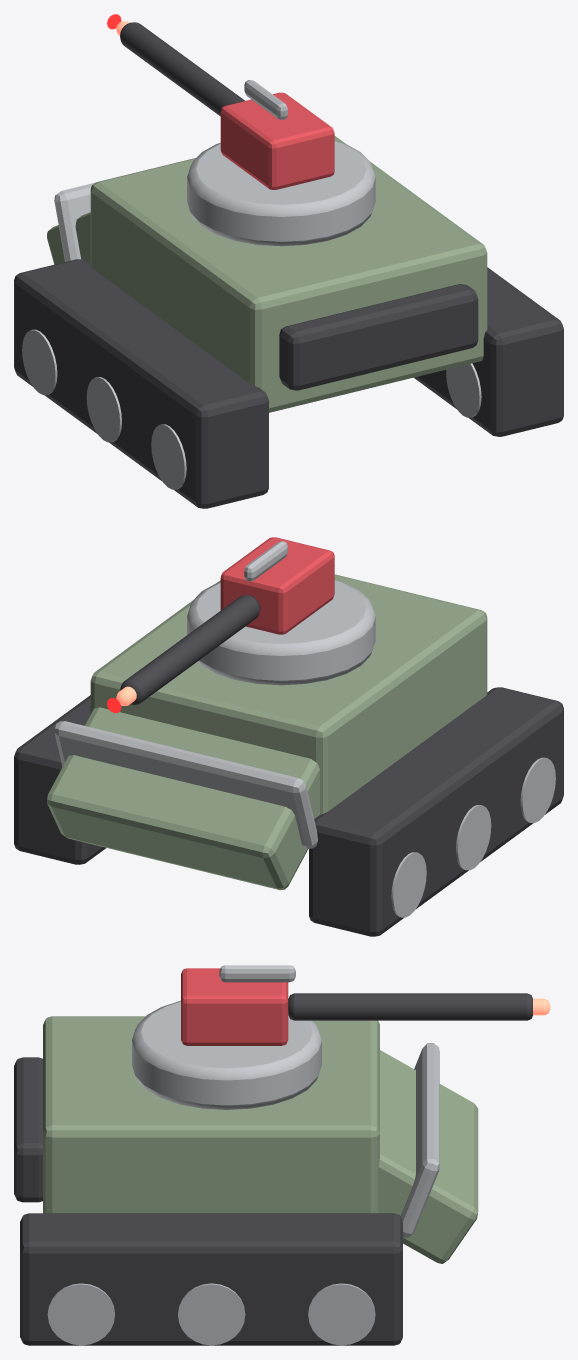
Rendered from robot_medium_laser_tank.glb.
The picture shows the model from 3 angles, top to bottom: view 1: azimuth 30°, elevation 25°; view 2: azimuth 150°, elevation 25°; view 3: azimuth 270°, elevation 25°; orthographic projection.
Parts seen in each view (by area): view 1: robot_medium_laser_tank, robot_medium_laser_tank_gun, robot_medium_laser_tank_wheel0, robot_medium_laser_tank_wheel2, robot_medium_laser_tank_wheel1, robot_medium_laser_tank_wheel3; view 2: robot_medium_laser_tank, robot_medium_laser_tank_gun, robot_medium_laser_tank_wheel2, robot_medium_laser_tank_wheel0, robot_medium_laser_tank_wheel1; view 3: robot_medium_laser_tank, robot_medium_laser_tank_gun, robot_medium_laser_tank_wheel3, robot_medium_laser_tank_wheel4, robot_medium_laser_tank_wheel5.
Boxes of the visible parts, x1,y1,x2,y2 form: robot_medium_laser_tank: (14, 136, 563, 508); robot_medium_laser_tank_gun: (116, 21, 334, 189); robot_medium_laser_tank_wheel0: (151, 424, 186, 489); robot_medium_laser_tank_wheel2: (22, 329, 57, 394); robot_medium_laser_tank_wheel1: (86, 377, 121, 442); robot_medium_laser_tank_wheel3: (446, 363, 481, 417); robot_medium_laser_tank: (14, 574, 563, 936); robot_medium_laser_tank_gun: (116, 537, 334, 705); robot_medium_laser_tank_wheel2: (391, 852, 426, 917); robot_medium_laser_tank_wheel0: (520, 757, 555, 822); robot_medium_laser_tank_wheel1: (456, 805, 491, 870); robot_medium_laser_tank: (14, 1000, 478, 1345); robot_medium_laser_tank_gun: (181, 965, 550, 1045); robot_medium_laser_tank_wheel3: (47, 1283, 114, 1345); robot_medium_laser_tank_wheel4: (178, 1283, 245, 1345); robot_medium_laser_tank_wheel5: (308, 1283, 375, 1345).
Size of what is drawn, in the model's own units: 4.51 by 3.38 by 5.74.
